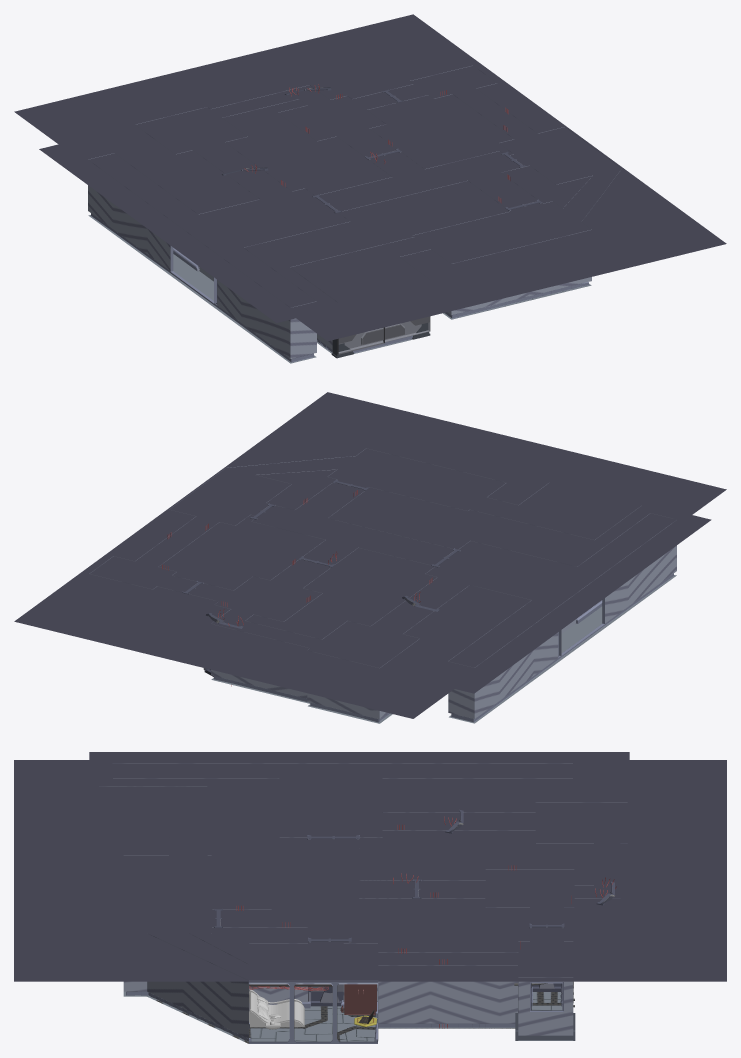
The model's file is NOglassNOlight.fbx.
3 views of the same model, one above another, from view 1: azimuth 30°, elevation 25°; view 2: azimuth 150°, elevation 25°; view 3: azimuth 270°, elevation 25° (orthographic). The views are drawn at different scales.
Visible parts, largest first — view 1: Station.001, Plane.007, Plane, Door2.001, Door1.001; view 2: Station.001, Plane.007, Plane; view 3: Station.001, Plane.007, Plane, Bed, Closet, BézierCurve, Door main.004, Meteor.
Boxes of the visible parts, x1,y1,x2,y2 form: Station.001: (14,14,726,341); Plane.007: (88,65,621,363); Plane: (39,144,295,322); Door2.001: (337,327,384,354); Door1.001: (383,316,430,342); Station.001: (14,392,726,718); Plane.007: (89,448,676,723); Plane: (455,515,711,693); Station.001: (14,760,726,981); Plane.007: (99,763,627,1043); Plane: (89,752,629,759); Bed: (249,989,304,1029); Closet: (344,984,376,1014); BézierCurve: (236,816,616,1027); Door main.004: (308,937,351,1006); Meteor: (515,1013,575,1040).
Bounding box in the file's own units: 413 × 65.54 × 538.
